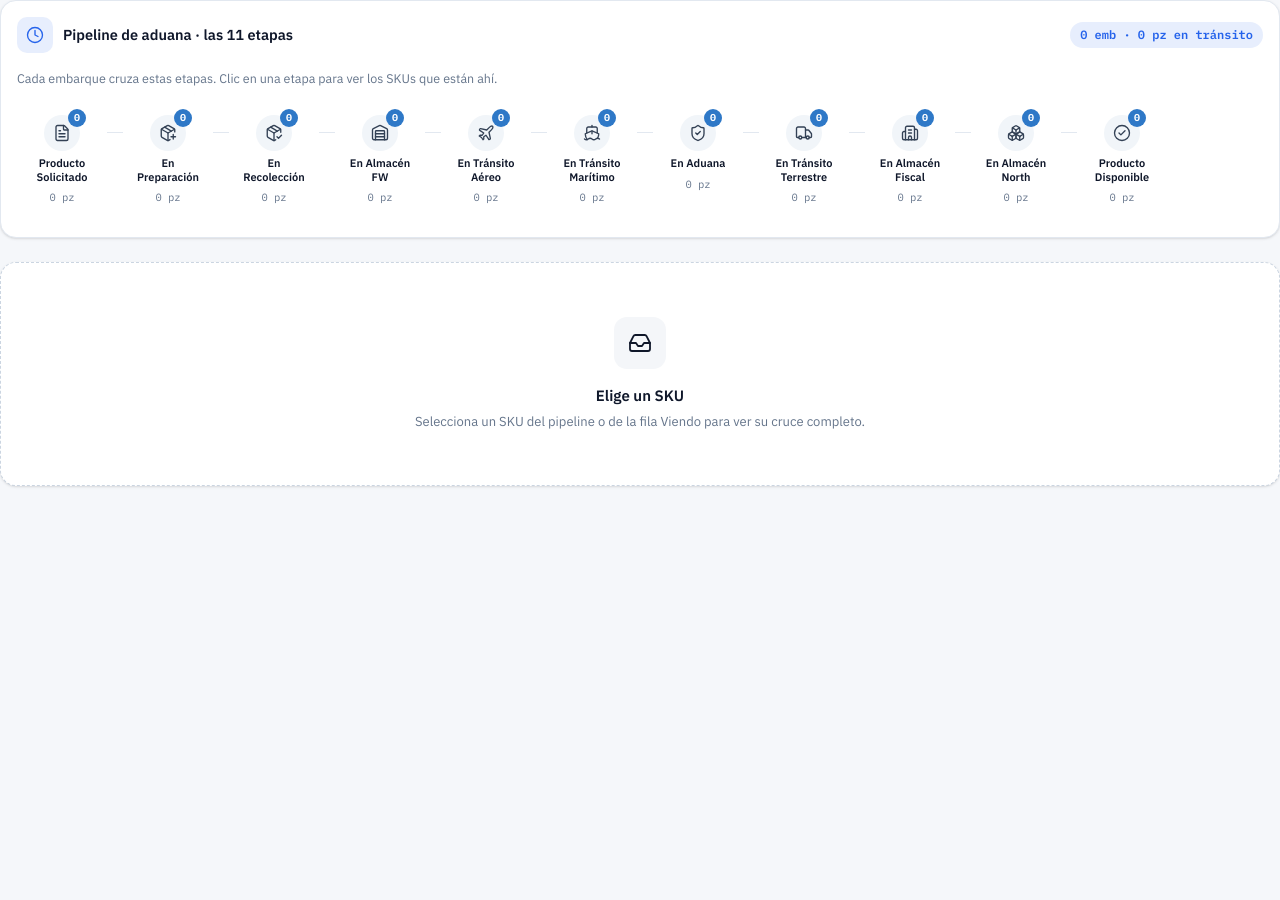
Test: CruceView › sin ?retrasado=1: no aparece el chip y la etapa muestra TODOS los items (retrasados o no)
The width and height of the screenshot is (1280, 900).
Click the text "En Aduana".
click(698, 164)  # box [670,157,725,171]
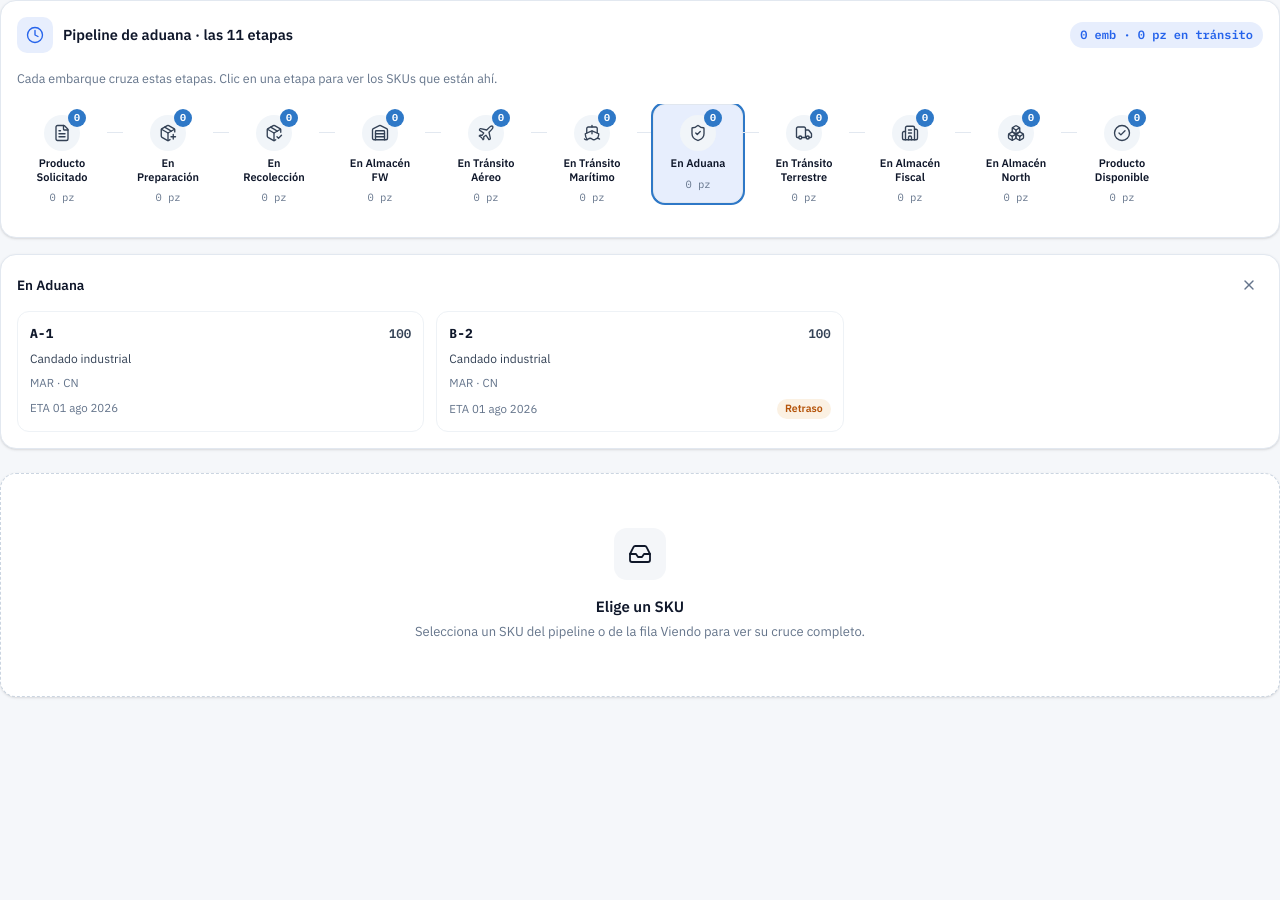
expect the button "A-1" is shown: met, box [30,324,53,344]
expect the button "B-2" is shown: met, box [449,324,473,344]
